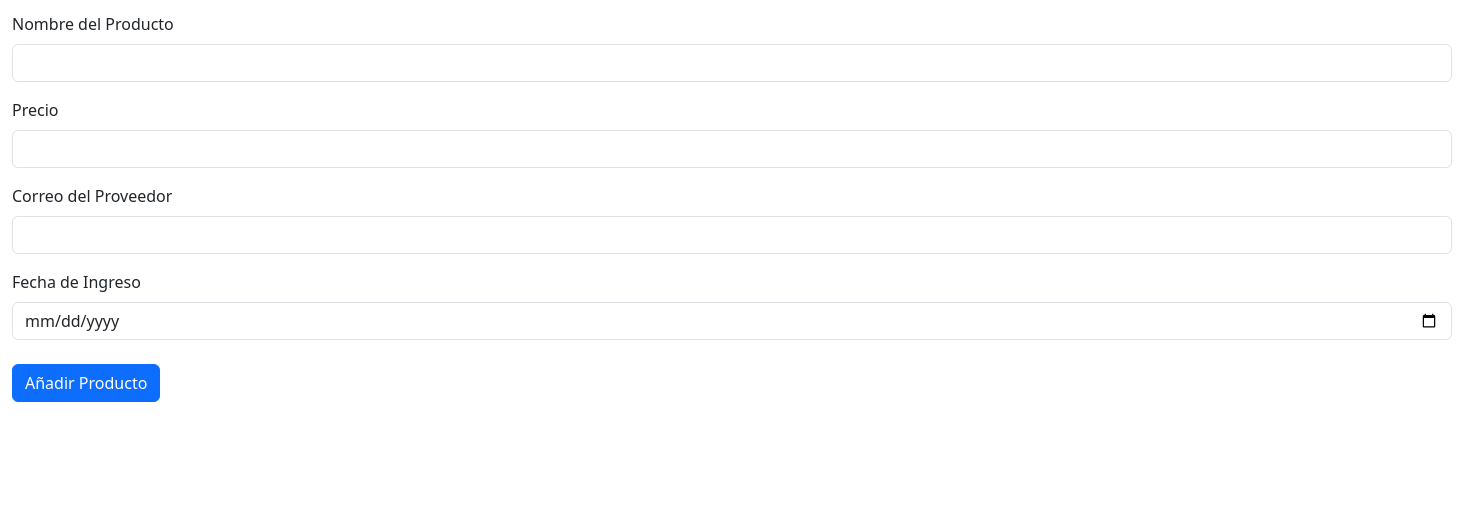
Scenario: ProductForm › displays validation errors for empty fields
Step 1. Click the button "Añadir Producto" → (86, 383), box [12,364,160,402]
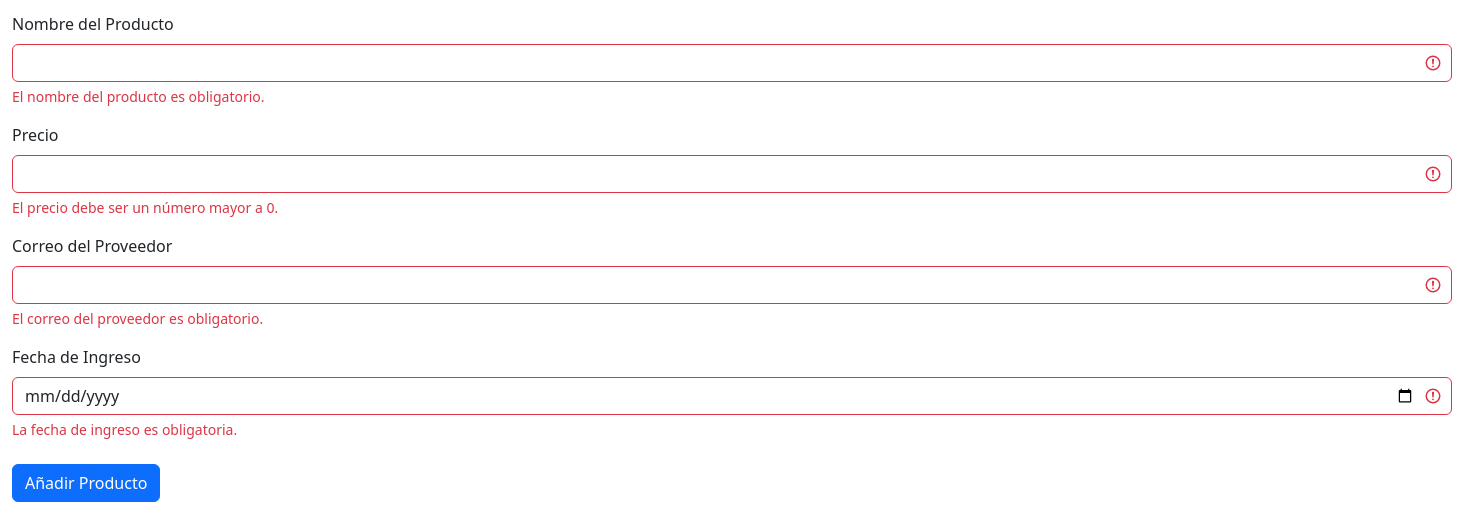
Result: the text "El nombre del producto es obligatorio." is shown at [12,87,264,106]
Result: the text "El precio debe ser un número mayor a 0." is shown at [12,198,278,217]
Result: the text "El correo del proveedor es obligatorio." is shown at [12,309,263,328]
